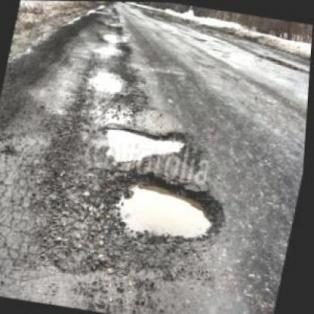Hueco: (102, 163, 236, 251), (98, 117, 196, 174), (87, 66, 127, 96), (95, 40, 127, 56), (101, 30, 127, 43)
